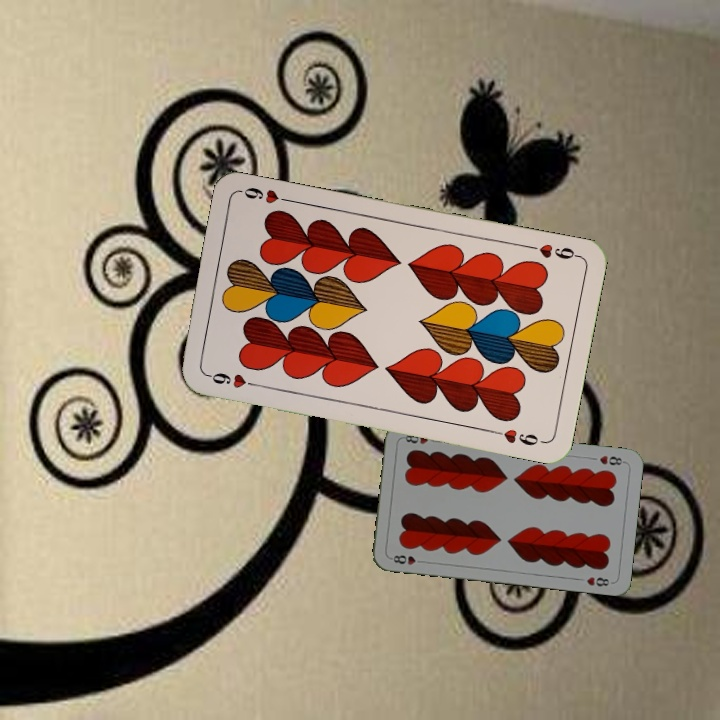H8: (386, 551, 427, 567), (595, 451, 627, 468)
H9: (523, 239, 582, 262), (203, 368, 262, 391)
